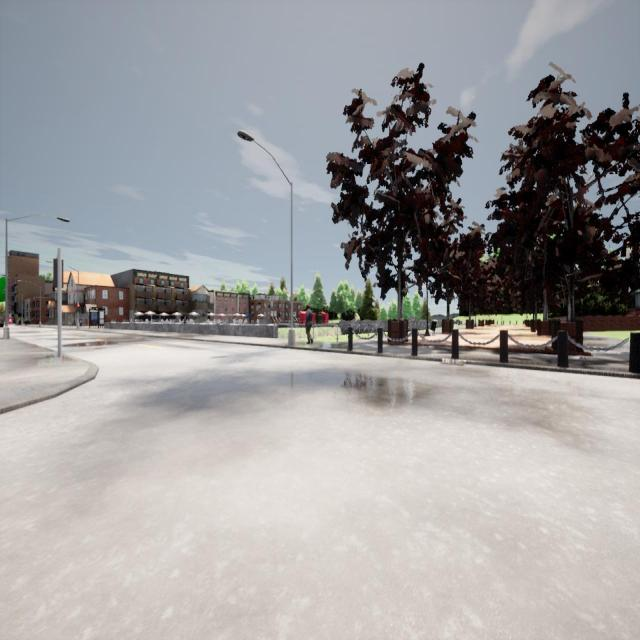Pedestrian: (305, 304, 313, 344)
traffic_light: (53, 259, 64, 288), (76, 304, 80, 312)
